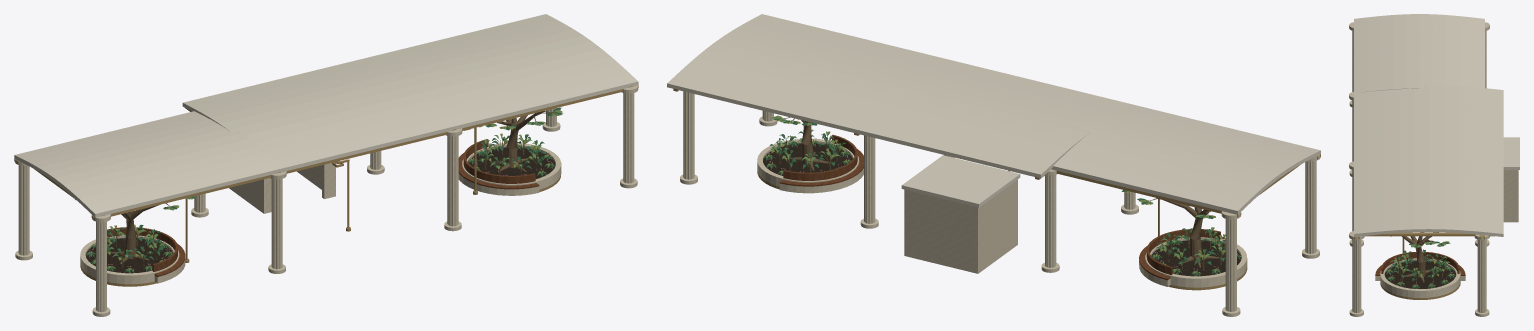
File: G7_Completion_R007_G7C7_D12_ForeGardenCourt.glb
The picture shows the model from 3 angles, left to right: view 1: azimuth 30°, elevation 25°; view 2: azimuth 150°, elevation 25°; view 3: azimuth 270°, elevation 25°; orthographic projection. The views are drawn at different scales.
Visible parts, largest first — view 1: G7C7_D12_ForeGardenCourt_G7C7_roof_solid_roof, G7C7_D12_ForeGardenCourt_G7C7_stone_solid_frame, G7C7_D12_ForeGardenCourt_G7C7_soil_solid_planter, G7C7_D12_ForeGardenCourt_G7C7_wood_solid_furniture, G7C7_D12_ForeGardenCourt_G7C7_stone_solid_planter, G7C7_D12_ForeGardenCourt_G7C7_metal_solid_frame, G7C7_D12_ForeGardenCourt_G7C7_bark_solid_tree_bark, G7C7_D12_ForeGardenCourt_ASTRAEA_botanical_leaf_jade.001_vis, G7C7_D12_ForeGardenCourt_G7C7_stone_solid_furniture, G7C7_D12_ForeGardenCourt_G7C7_metal_solid_fixture, G7C7_D12_ForeGardenCourt_ASTRAEA_botanical_leaf_sage.001_vis, G7C7_D12_ForeGardenCourt_ASTRAEA_botanical_leaf_olive.001_vi; view 2: G7C7_D12_ForeGardenCourt_G7C7_roof_solid_roof, G7C7_D12_ForeGardenCourt_G7C7_stone_solid_frame, G7C7_D12_ForeGardenCourt_G7C7_soil_solid_planter, G7C7_D12_ForeGardenCourt_G7C7_wood_solid_furniture, G7C7_D12_ForeGardenCourt_G7C7_stone_solid_planter, G7C7_D12_ForeGardenCourt_G7C7_bark_solid_tree_bark, G7C7_D12_ForeGardenCourt_ASTRAEA_botanical_leaf_jade.001_vis, G7C7_D12_ForeGardenCourt_G7C7_stone_solid_furniture, G7C7_D12_ForeGardenCourt_G7C7_metal_solid_frame, G7C7_D12_ForeGardenCourt_ASTRAEA_botanical_leaf_sage.001_vis, G7C7_D12_ForeGardenCourt_ASTRAEA_botanical_leaf_olive.001_vi, G7C7_D12_ForeGardenCourt_ASTRAEA_botanical_bark.001_visual_f; view 3: G7C7_D12_ForeGardenCourt_G7C7_roof_solid_roof, G7C7_D12_ForeGardenCourt_G7C7_stone_solid_frame, G7C7_D12_ForeGardenCourt_G7C7_soil_solid_planter, G7C7_D12_ForeGardenCourt_G7C7_stone_solid_planter, G7C7_D12_ForeGardenCourt_G7C7_wood_solid_furniture, G7C7_D12_ForeGardenCourt_G7C7_bark_solid_tree_bark, G7C7_D12_ForeGardenCourt_G7C7_metal_solid_frame, G7C7_D12_ForeGardenCourt_ASTRAEA_botanical_leaf_jade.001_vis, G7C7_D12_ForeGardenCourt_G7C7_metal_solid_planter, G7C7_D12_ForeGardenCourt_ASTRAEA_botanical_leaf_sage.001_vis, G7C7_D12_ForeGardenCourt_ASTRAEA_botanical_leaf_jade.002_vis, G7C7_D12_ForeGardenCourt_ASTRAEA_botanical_leaf_olive.001_vi (+1 smaller).
Part boxes in pixels (x1,y1,x2,y2): G7C7_D12_ForeGardenCourt_G7C7_roof_solid_roof: (14, 14, 638, 217); G7C7_D12_ForeGardenCourt_G7C7_stone_solid_frame: (15, 85, 638, 316); G7C7_D12_ForeGardenCourt_G7C7_soil_solid_planter: (85, 147, 555, 273); G7C7_D12_ForeGardenCourt_G7C7_wood_solid_furniture: (107, 139, 539, 276); G7C7_D12_ForeGardenCourt_G7C7_stone_solid_planter: (80, 142, 561, 284); G7C7_D12_ForeGardenCourt_G7C7_metal_solid_frame: (14, 85, 638, 220); G7C7_D12_ForeGardenCourt_G7C7_bark_solid_tree_bark: (110, 111, 553, 264); G7C7_D12_ForeGardenCourt_ASTRAEA_botanical_leaf_jade.001_vis: (107, 134, 545, 259); G7C7_D12_ForeGardenCourt_G7C7_stone_solid_furniture: (154, 173, 539, 283); G7C7_D12_ForeGardenCourt_G7C7_metal_solid_fixture: (185, 127, 477, 262); G7C7_D12_ForeGardenCourt_ASTRAEA_botanical_leaf_sage.001_vis: (107, 135, 541, 257); G7C7_D12_ForeGardenCourt_ASTRAEA_botanical_leaf_olive.001_vi: (107, 133, 543, 260); G7C7_D12_ForeGardenCourt_G7C7_roof_solid_roof: (667, 14, 1320, 214); G7C7_D12_ForeGardenCourt_G7C7_stone_solid_frame: (680, 91, 1320, 316); G7C7_D12_ForeGardenCourt_G7C7_soil_solid_planter: (763, 143, 1241, 276); G7C7_D12_ForeGardenCourt_G7C7_wood_solid_furniture: (779, 134, 1224, 280); G7C7_D12_ForeGardenCourt_G7C7_stone_solid_planter: (757, 138, 1247, 287); G7C7_D12_ForeGardenCourt_G7C7_bark_solid_tree_bark: (783, 117, 1218, 268); G7C7_D12_ForeGardenCourt_ASTRAEA_botanical_leaf_jade.001_vis: (770, 131, 1225, 265); G7C7_D12_ForeGardenCourt_G7C7_stone_solid_furniture: (779, 168, 1170, 286); G7C7_D12_ForeGardenCourt_G7C7_metal_solid_frame: (673, 88, 1320, 217); G7C7_D12_ForeGardenCourt_ASTRAEA_botanical_leaf_sage.001_vis: (770, 129, 1225, 258); G7C7_D12_ForeGardenCourt_ASTRAEA_botanical_leaf_olive.001_vi: (771, 130, 1225, 263); G7C7_D12_ForeGardenCourt_ASTRAEA_botanical_bark.001_visual_f: (777, 138, 1224, 270); G7C7_D12_ForeGardenCourt_G7C7_roof_solid_roof: (1354, 14, 1519, 236); G7C7_D12_ForeGardenCourt_G7C7_stone_solid_frame: (1349, 22, 1518, 316); G7C7_D12_ForeGardenCourt_G7C7_soil_solid_planter: (1384, 260, 1456, 288); G7C7_D12_ForeGardenCourt_G7C7_stone_solid_planter: (1380, 258, 1460, 297); G7C7_D12_ForeGardenCourt_G7C7_wood_solid_furniture: (1375, 252, 1465, 275); G7C7_D12_ForeGardenCourt_G7C7_bark_solid_tree_bark: (1402, 232, 1440, 282); G7C7_D12_ForeGardenCourt_G7C7_metal_solid_frame: (1354, 232, 1494, 239); G7C7_D12_ForeGardenCourt_ASTRAEA_botanical_leaf_jade.001_vis: (1390, 249, 1449, 281); G7C7_D12_ForeGardenCourt_G7C7_metal_solid_planter: (1380, 282, 1460, 299); G7C7_D12_ForeGardenCourt_ASTRAEA_botanical_leaf_sage.001_vis: (1390, 254, 1449, 277); G7C7_D12_ForeGardenCourt_ASTRAEA_botanical_leaf_jade.002_vis: (1386, 260, 1455, 288); G7C7_D12_ForeGardenCourt_ASTRAEA_botanical_leaf_olive.001_vi: (1394, 252, 1447, 279).
Bounding box in the file's own units: 27.22 × 5.19 × 9.12.
Materials: 19 (18 with a texture image).
